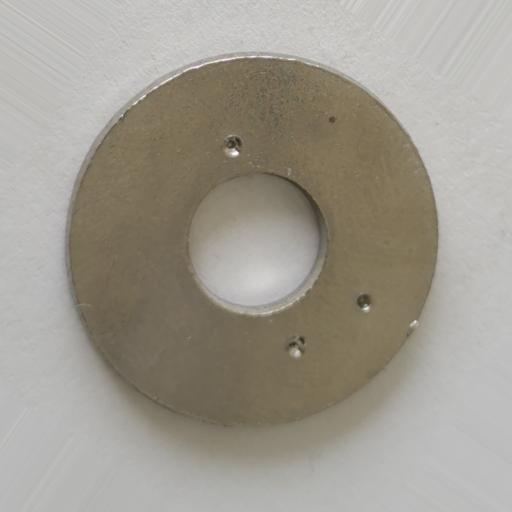circular_cavity: (284, 334, 307, 357), (221, 135, 243, 158), (357, 292, 373, 311)
